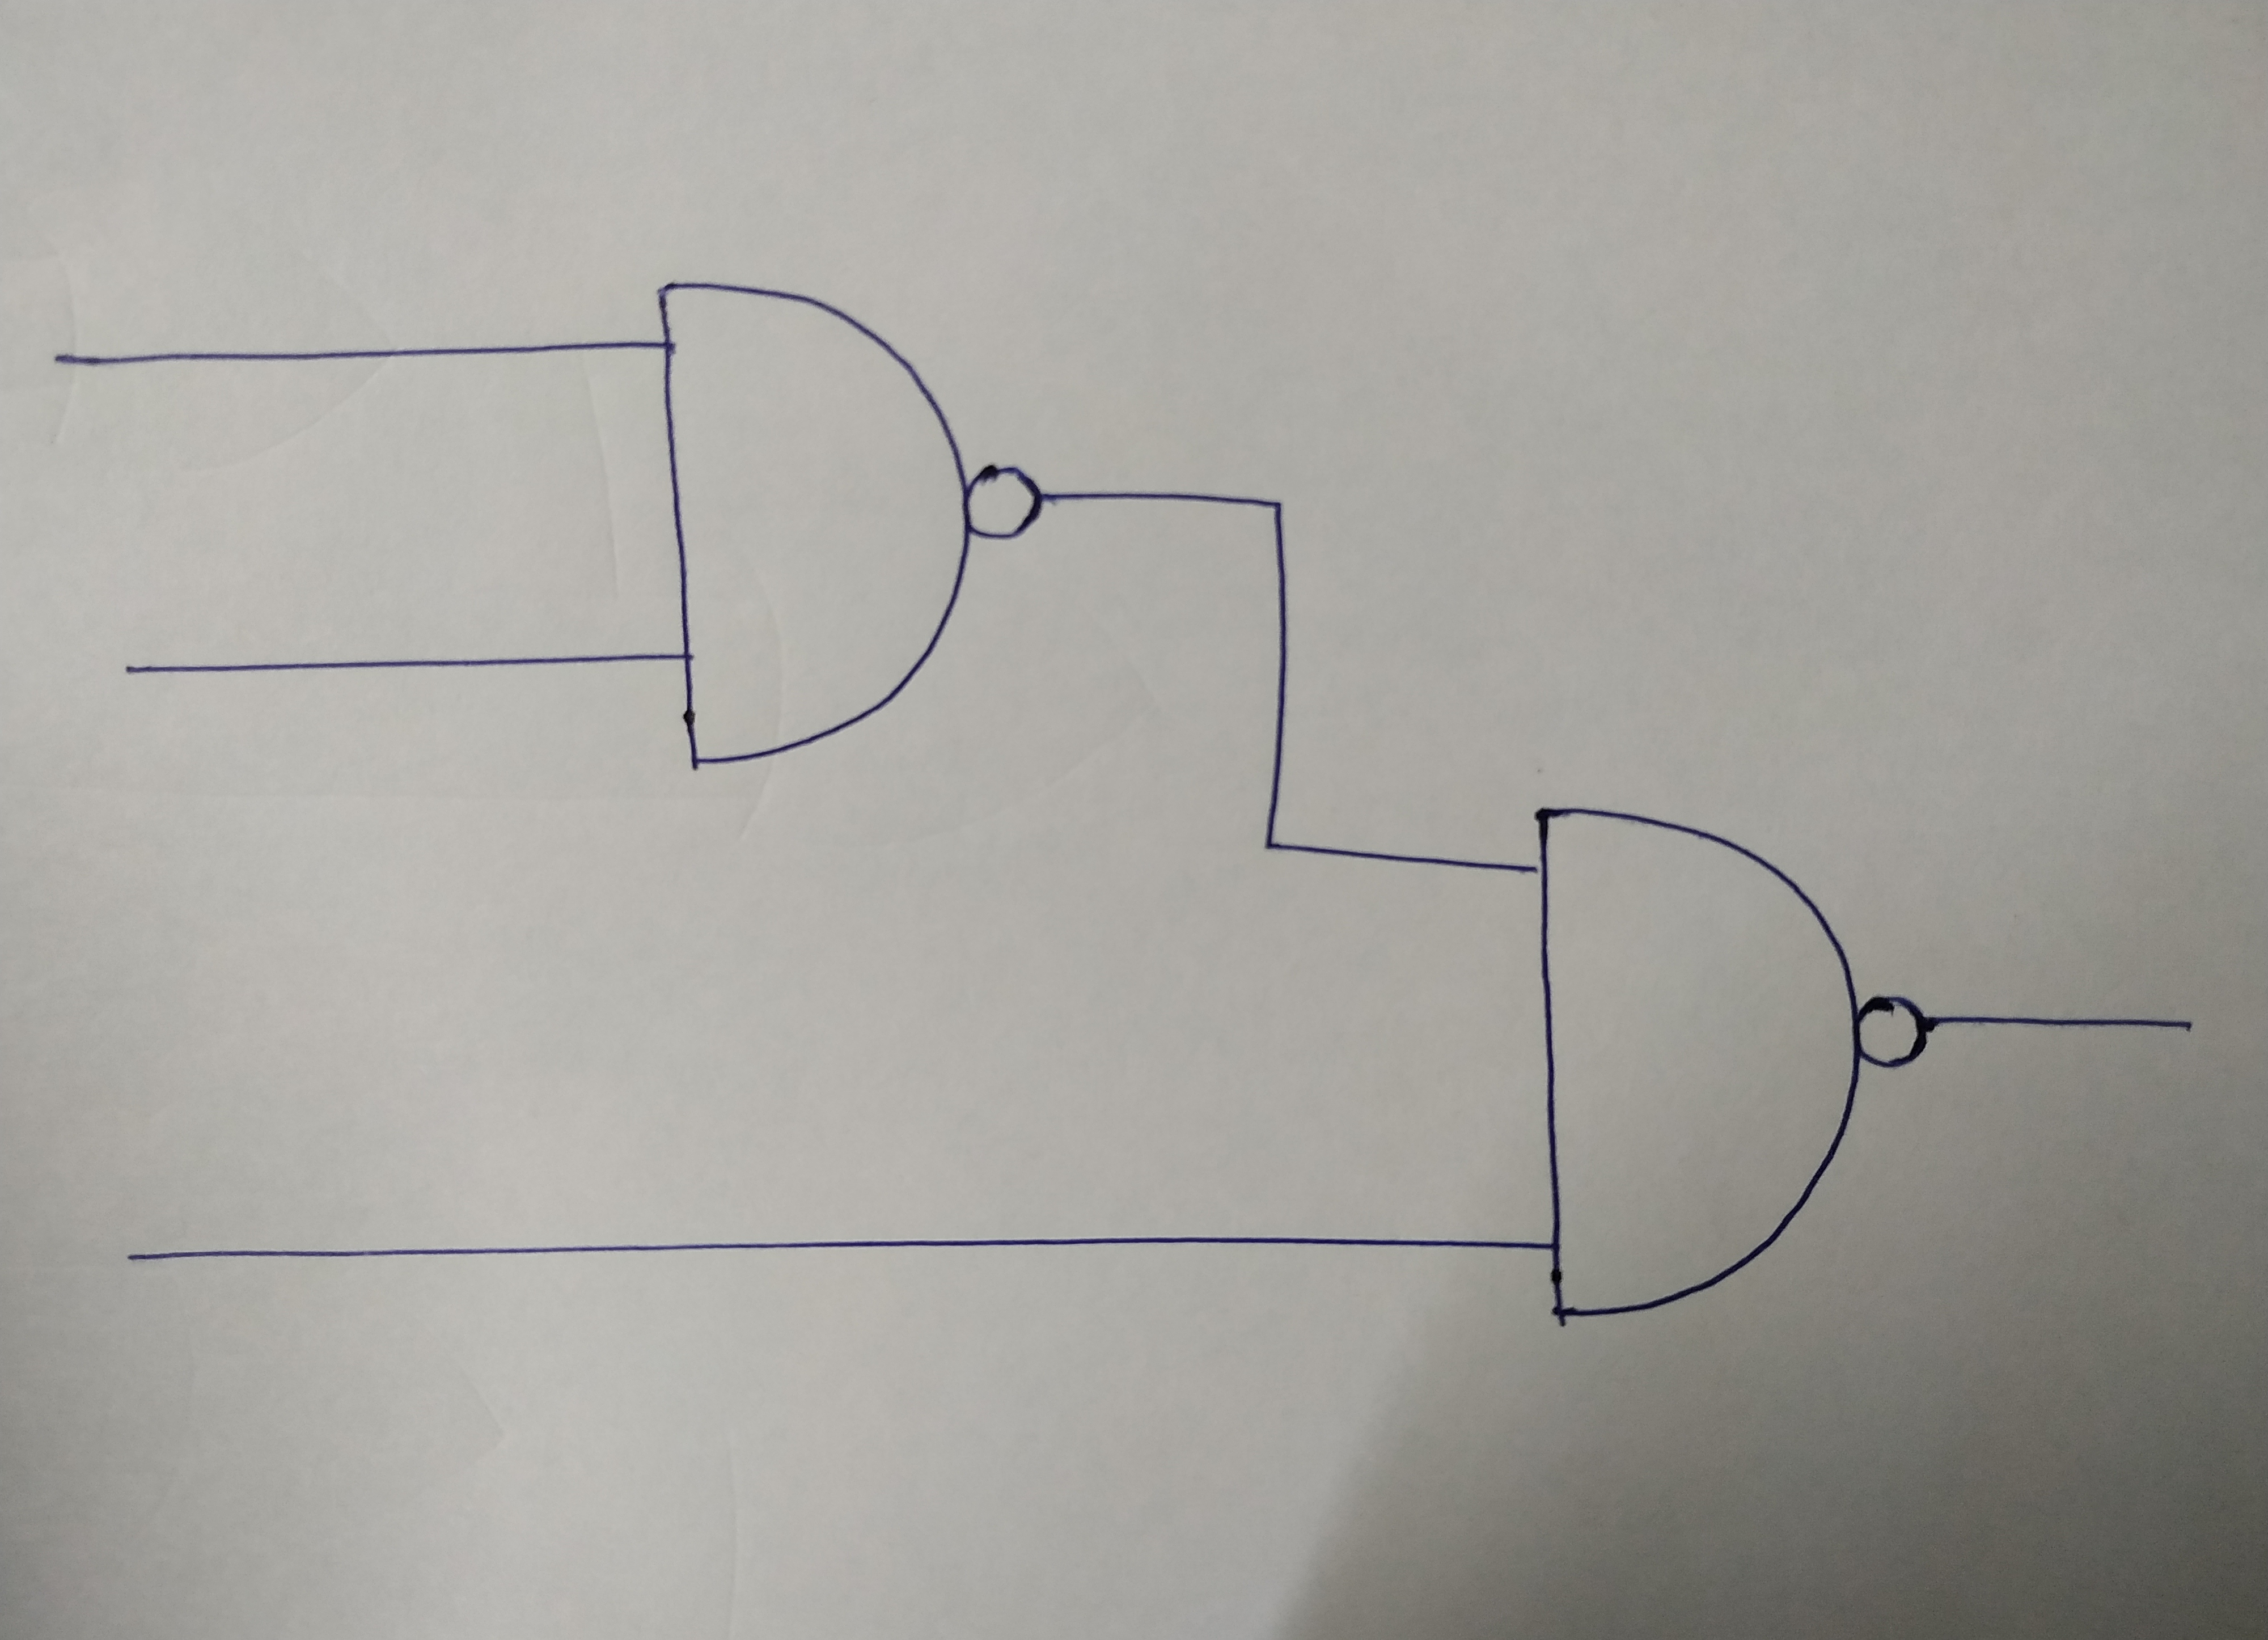and: (1527, 804, 1852, 1323), (657, 280, 961, 767)
not: (1858, 994, 1923, 1065), (970, 473, 1042, 535)
